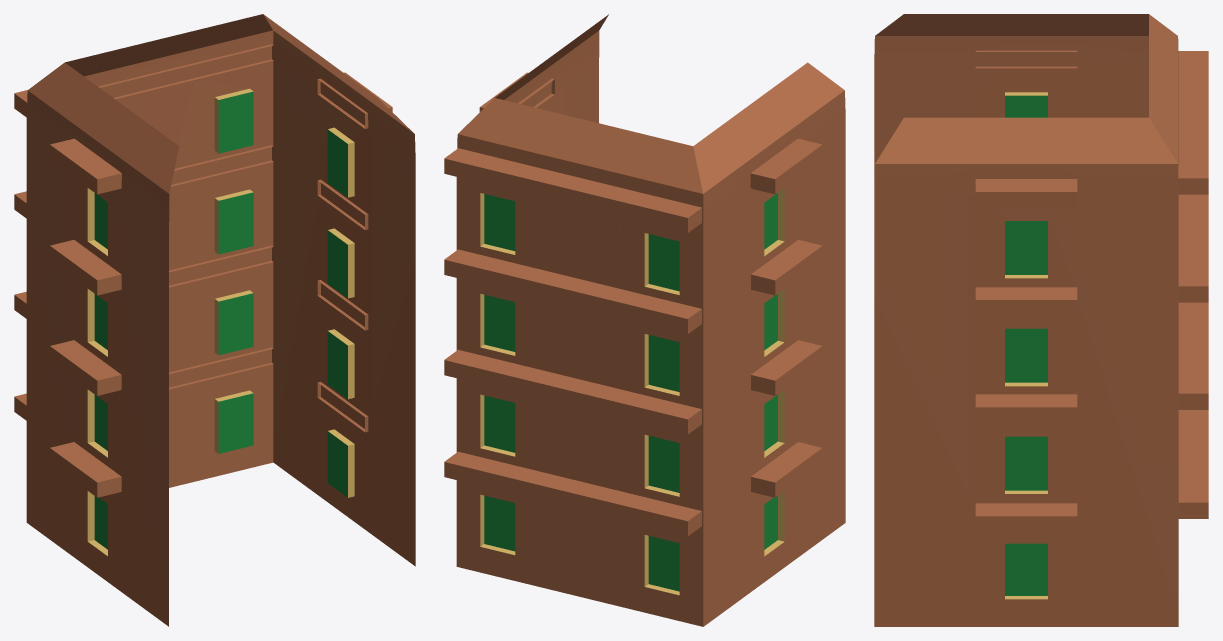
Rendered from LimitBlock.fbx.
The picture shows the model from 3 angles, left to right: view 1: azimuth 30°, elevation 25°; view 2: azimuth 150°, elevation 25°; view 3: azimuth 270°, elevation 25°; orthographic projection. The views are drawn at different scales.
Visible parts, largest first — view 1: apartment.003; view 2: apartment.003; view 3: apartment.003.
Boxes of the visible parts, <box> form: apartment.003: <box>14,14,415,626</box>; apartment.003: <box>444,14,845,626</box>; apartment.003: <box>874,14,1208,626</box>.
Size of the model in its own units: 1198 by 1800 by 1098.
